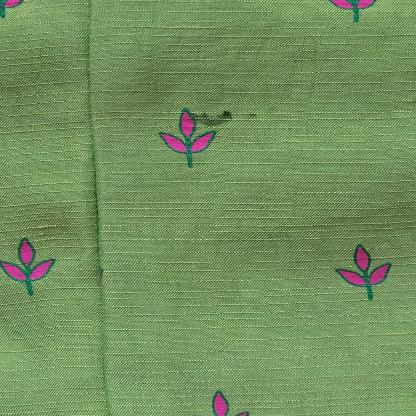spot: (196, 109, 236, 127), (248, 110, 260, 120)
